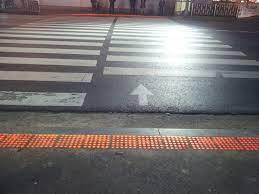guide_blocks: (1, 133, 259, 151), (72, 13, 164, 18)
